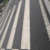zebra: (1, 1, 30, 50)
